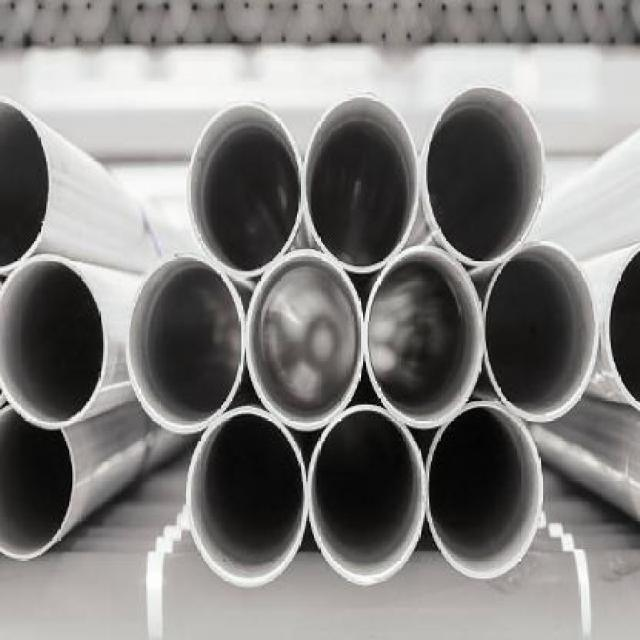pipe: (127, 253, 246, 436), (366, 246, 486, 427), (426, 86, 546, 265), (302, 94, 421, 274), (307, 405, 426, 585), (187, 407, 306, 587), (246, 251, 363, 432), (427, 402, 544, 581), (484, 241, 600, 421), (187, 101, 303, 278), (0, 252, 108, 431), (0, 406, 77, 562), (0, 96, 51, 273), (604, 244, 640, 409)
